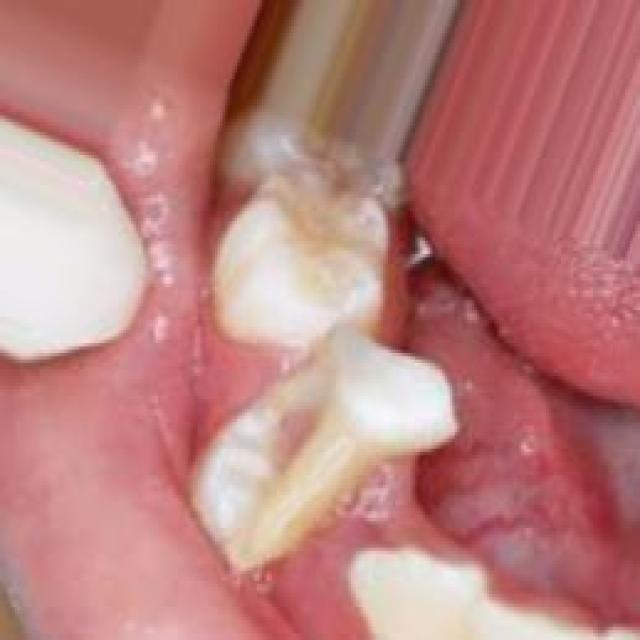caries: (198, 314, 401, 566)
